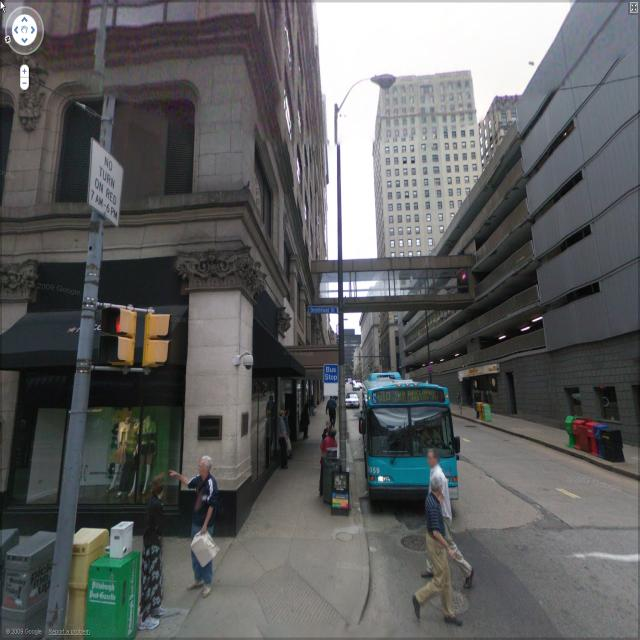b_1: (1, 8, 336, 538), (400, 9, 634, 432), (370, 62, 486, 268), (336, 292, 404, 399), (470, 79, 528, 159), (328, 320, 364, 390)
